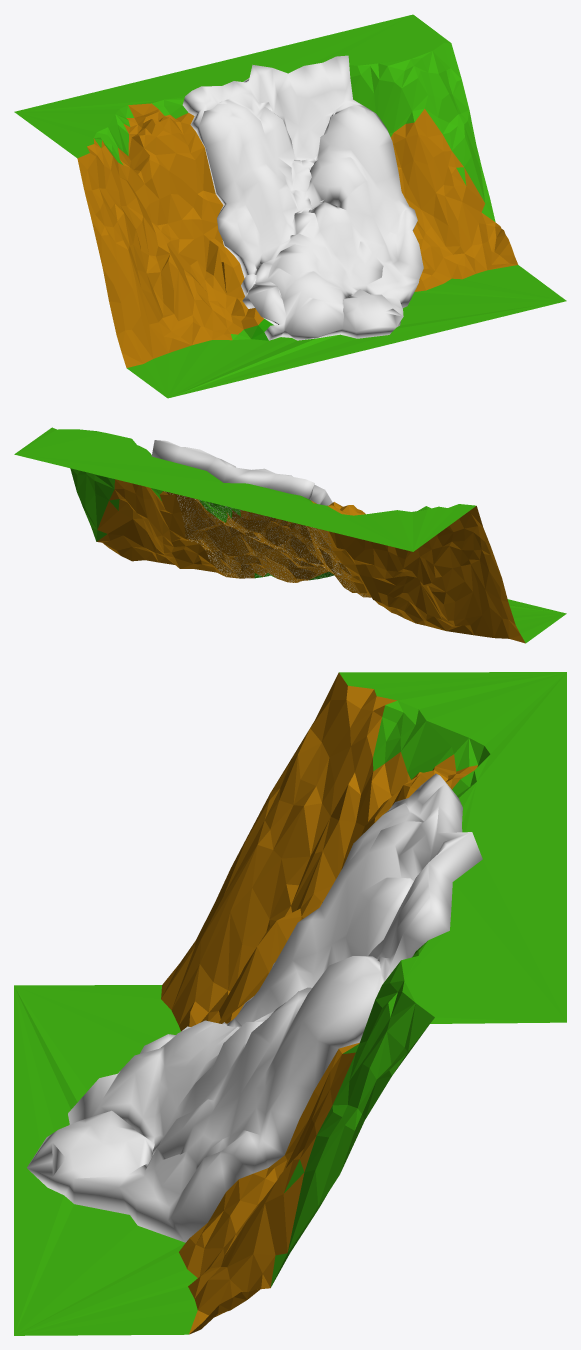
The model's file is WaterFall.glb.
3 renders of one model, top to bottom at view 1: azimuth 30°, elevation 25°; view 2: azimuth 150°, elevation 25°; view 3: azimuth 270°, elevation 25°, orthographic. The views are drawn at different scales.
Parts seen in each view (by area): view 1: Landscape, Landscape.001; view 2: Landscape, Landscape.001; view 3: Landscape, Landscape.001.
Boxes of the visible parts, x1,y1,x2,y2 form: Landscape: [14, 14, 566, 398]; Landscape.001: [182, 55, 423, 340]; Landscape: [14, 427, 566, 643]; Landscape.001: [151, 440, 369, 596]; Landscape: [14, 672, 566, 1335]; Landscape.001: [27, 773, 482, 1242].
Size of the model in its own units: 3 by 1.36 by 2.
